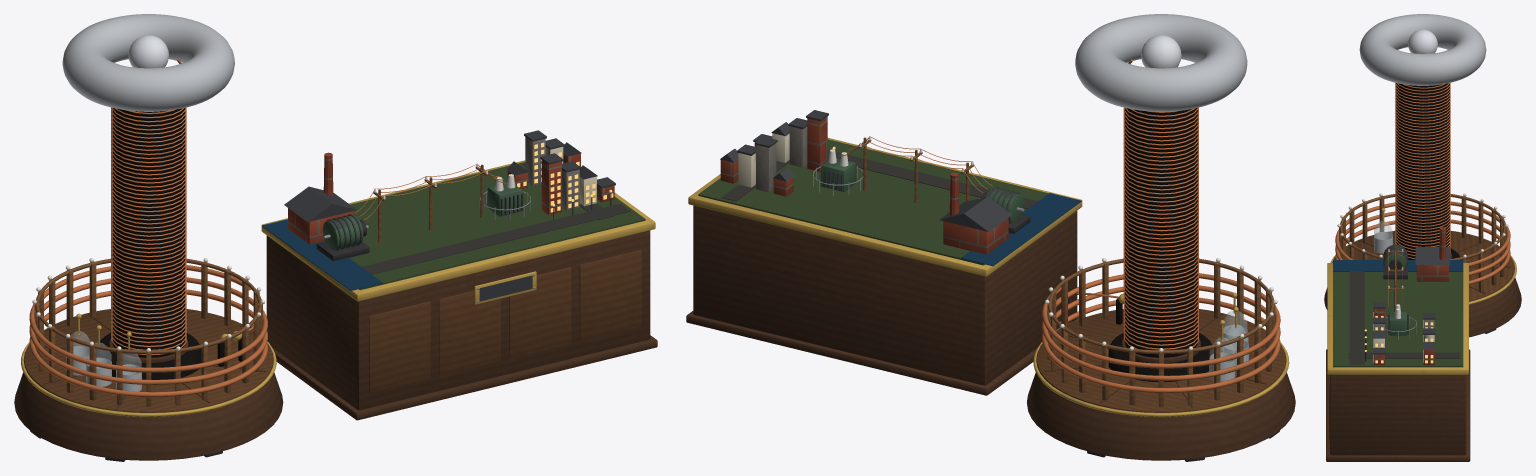
Rendered from tesla.glb.
The picture shows the model from 3 angles, left to right: view 1: azimuth 30°, elevation 25°; view 2: azimuth 150°, elevation 25°; view 3: azimuth 270°, elevation 25°; orthographic projection. The views are drawn at different scales.
Visible parts, largest first — view 1: acGrid_static, teslaCoil_static, toroid, plaque_static; view 2: acGrid_static, teslaCoil_static, toroid; view 3: acGrid_static, teslaCoil_static, toroid.
Part boxes in pixels (bbox=[...]): acGrid_static: bbox=[261, 130, 657, 420]; teslaCoil_static: bbox=[14, 35, 283, 461]; toroid: bbox=[62, 14, 234, 111]; plaque_static: bbox=[474, 271, 536, 304]; acGrid_static: bbox=[686, 110, 1082, 395]; teslaCoil_static: bbox=[1027, 35, 1295, 461]; toroid: bbox=[1075, 14, 1247, 111]; acGrid_static: bbox=[1326, 227, 1470, 461]; teslaCoil_static: bbox=[1324, 29, 1521, 337]; toroid: bbox=[1359, 14, 1486, 85].
Bounding box in the file's own units: 3.83 × 2.42 × 1.59.
Materials: 21 (12 with a texture image).
